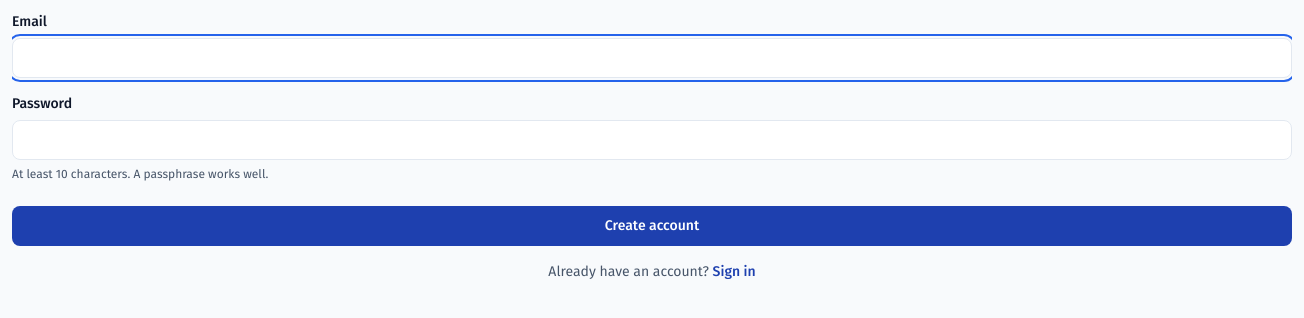
it: AuthForm › attaches field errors from the API to the right input
The width and height of the screenshot is (1304, 318).
Type "ada@example.com" into the field labelled "Email" at [652, 58], box [12, 38, 1292, 78]
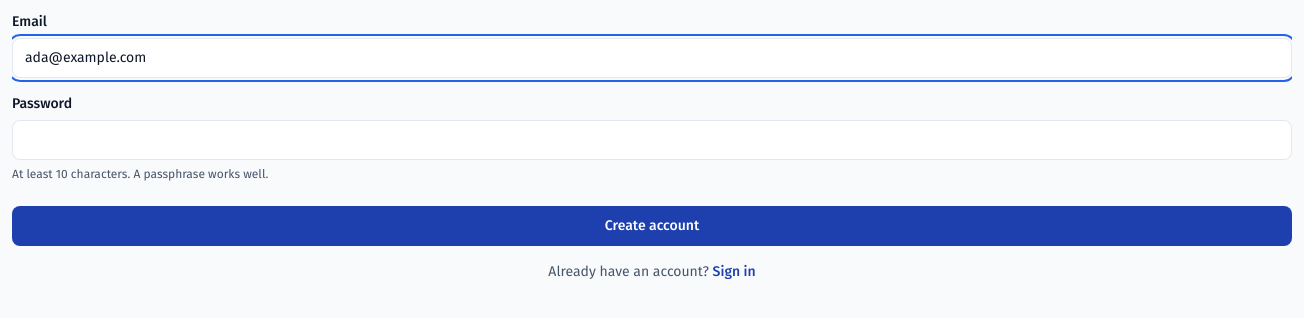
Type "correct horse battery staple" into the password field labelled "Password" at [652, 140], box [12, 120, 1292, 160]
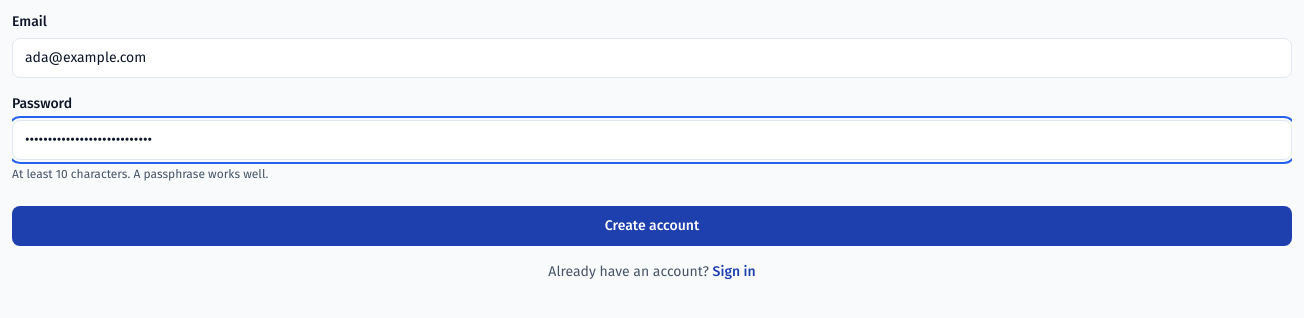
Click the button "Create account" at [652, 226], box [12, 206, 1292, 246]
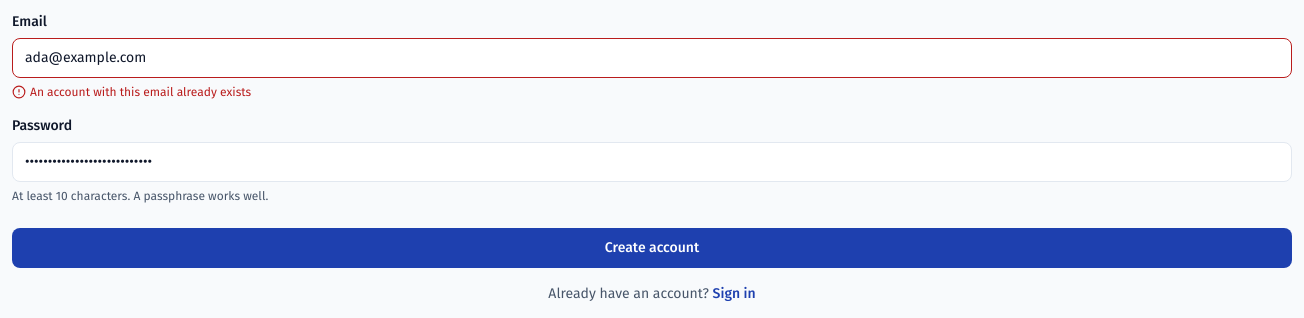
Result: the text "An account with this email already exists" is shown at [12, 85, 251, 99]
